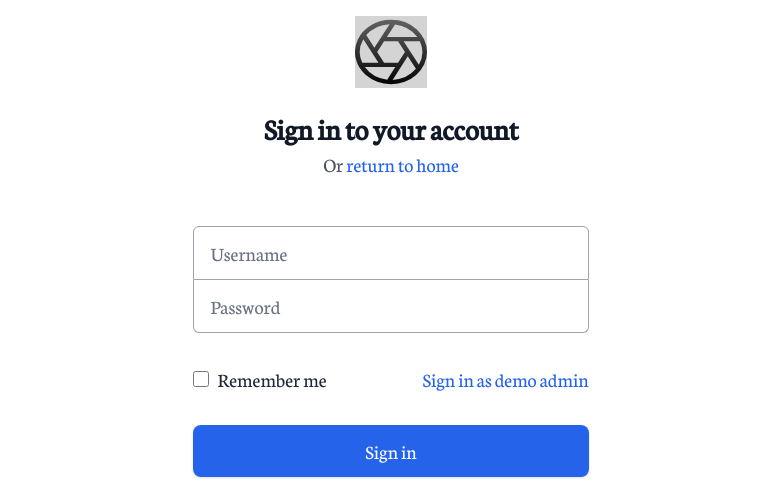
Test: Login component › attempting to sign in with no username and no password will generate error alert with 2 error messages
Click the button "Sign in" at (391, 451), box [193,425,588,477]
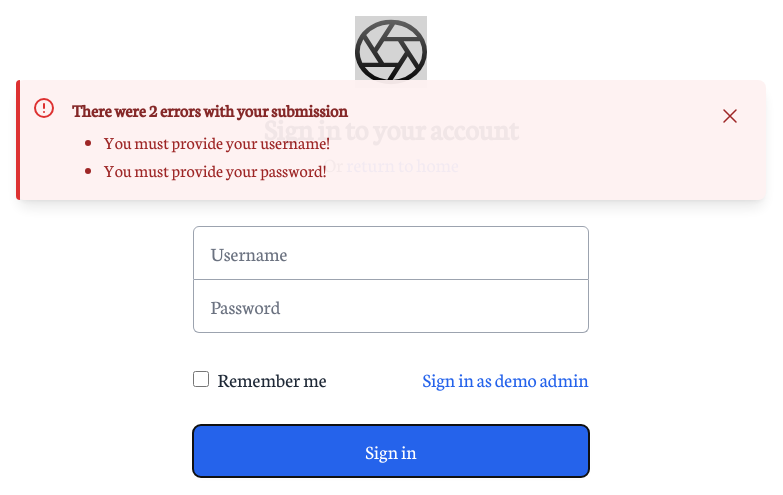
Now the message is shown, box [16,80,766,200]
Now the number of list items is 2, box [104,128,348,156]; [104,156,348,184]
Now the list item "You must provide your username!" is shown, box [104,128,348,156]
